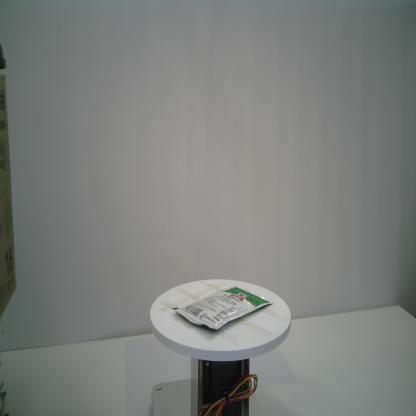Seasoner: (173, 284, 274, 331)
